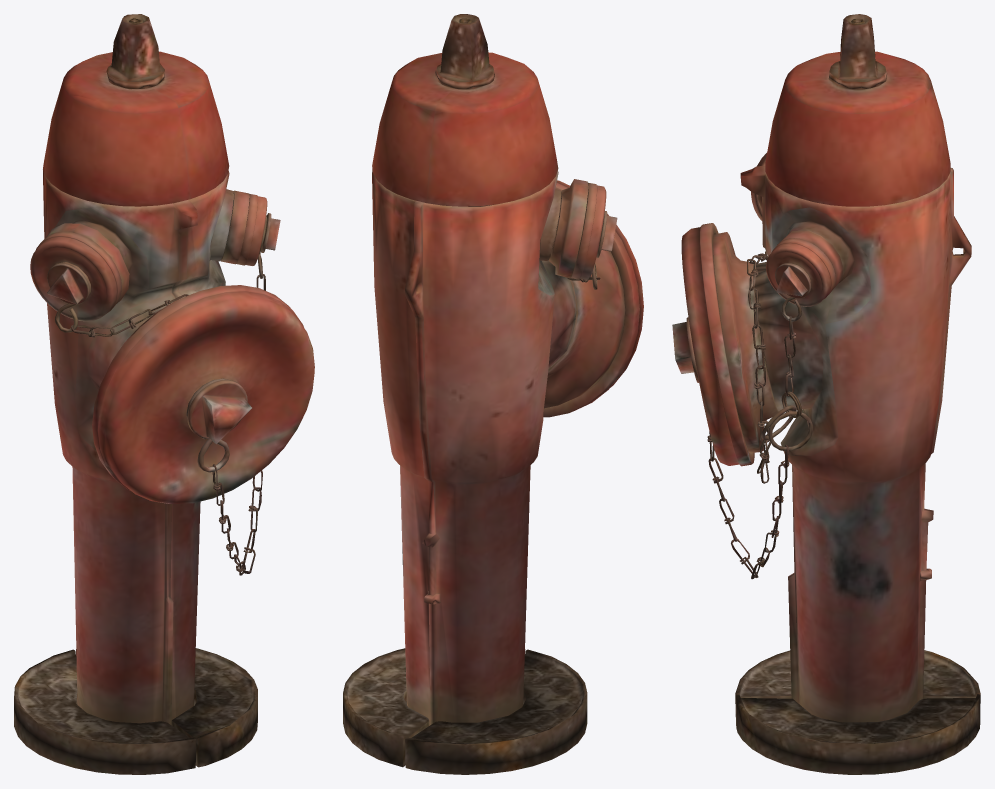
Rendered from fire_hydrant.glb.
3 views of the same model, side by side, from view 1: azimuth 30°, elevation 25°; view 2: azimuth 150°, elevation 25°; view 3: azimuth 270°, elevation 25° (orthographic).
Parts seen in each view (by area): view 1: fire_hydrant_aged, fire_hydrant_cap_01_aged, fire_hydrant_cap_03_aged, fire_hydrant_chain_aged, fire_hydrant_cap_02_aged; view 2: fire_hydrant_aged, fire_hydrant_cap_01_aged, fire_hydrant_cap_03_aged; view 3: fire_hydrant_aged, fire_hydrant_cap_01_aged, fire_hydrant_chain_aged, fire_hydrant_cap_02_aged.
Boxes of the visible parts, x1,y1,x2,y2 form: fire_hydrant_aged: (14,14,257,774); fire_hydrant_cap_01_aged: (92,285,314,503); fire_hydrant_cap_03_aged: (30,231,121,321); fire_hydrant_chain_aged: (55,215,266,575); fire_hydrant_cap_02_aged: (236,194,280,265); fire_hydrant_aged: (343,14,625,774); fire_hydrant_cap_01_aged: (543,180,643,417); fire_hydrant_cap_03_aged: (570,182,617,279); fire_hydrant_aged: (713,14,980,774); fire_hydrant_cap_01_aged: (672,223,754,466); fire_hydrant_chain_aged: (707,251,812,579); fire_hydrant_cap_02_aged: (766,238,835,306).
Bounding box in the file's own units: 0.2746 × 0.7994 × 0.3173.
Materials: 1 (1 with a texture image).
